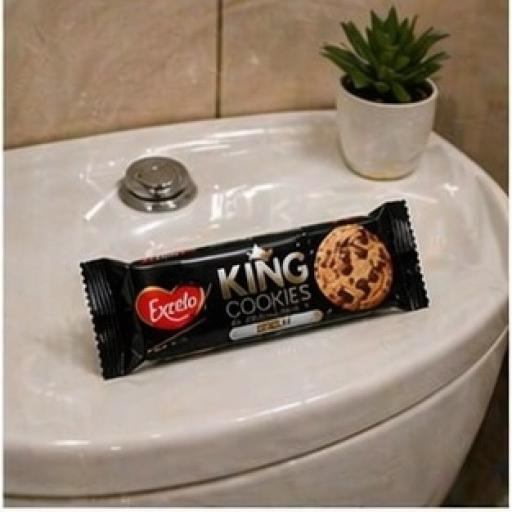king_cooking: (69, 156, 460, 390)
